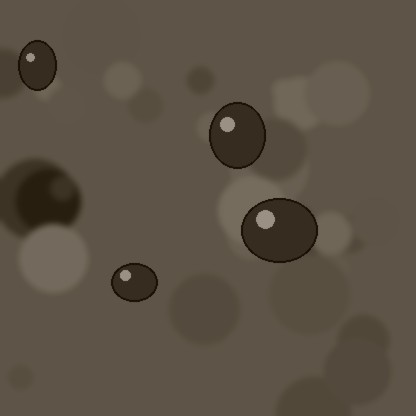gota: (241, 200, 317, 268), (209, 104, 265, 174), (18, 42, 56, 94), (111, 264, 157, 304)
